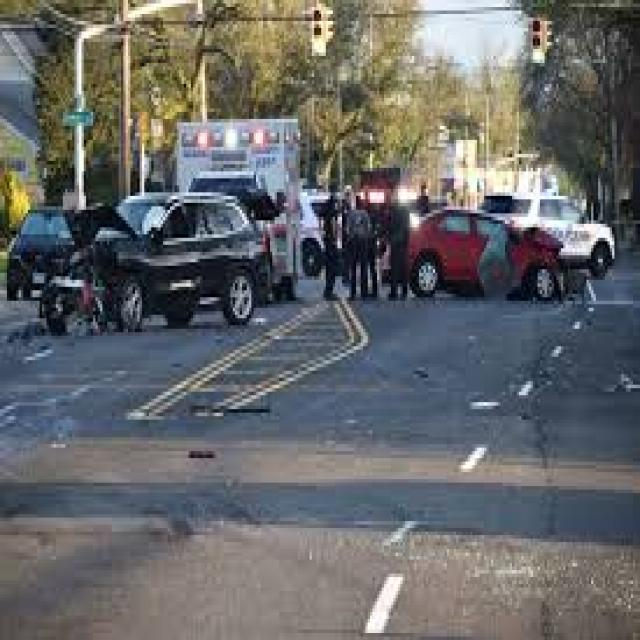accident: (34, 187, 290, 339)
